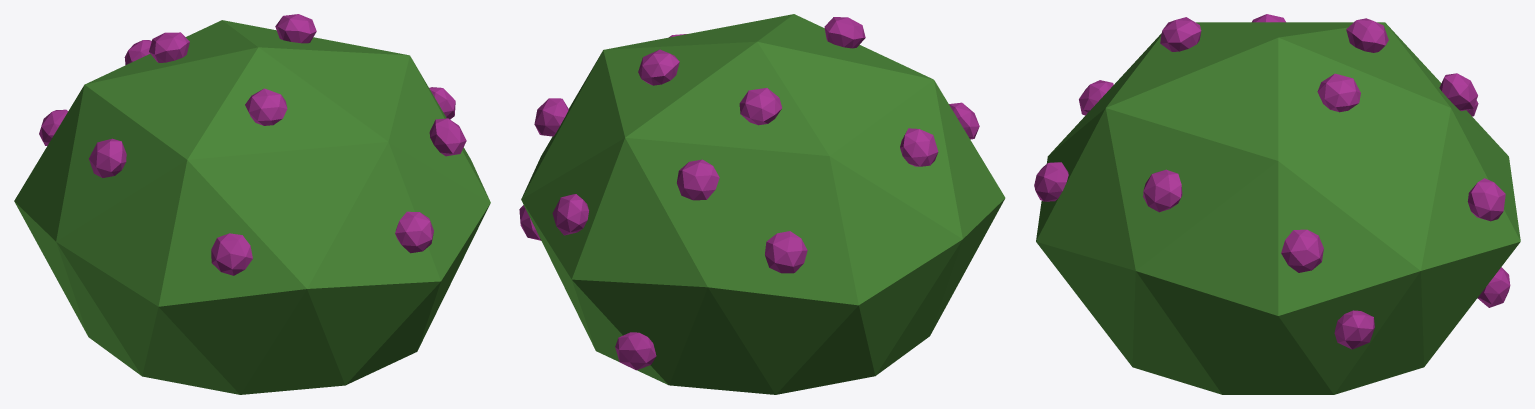
Rendered from Purple_Flower_plant_thing.fbx.
3 renders of one model, left to right at view 1: azimuth 30°, elevation 25°; view 2: azimuth 150°, elevation 25°; view 3: azimuth 270°, elevation 25°, orthographic. The views are drawn at different scales.
Visible parts, largest first — view 1: Purple Flower Thing; view 2: Purple Flower Thing; view 3: Purple Flower Thing.
Boxes of the visible parts, x1,y1,x2,y2 form: Purple Flower Thing: [14, 14, 490, 394]; Purple Flower Thing: [519, 14, 1005, 394]; Purple Flower Thing: [1034, 14, 1520, 394].
Size of the model in its own units: 144 by 91.07 by 141.
